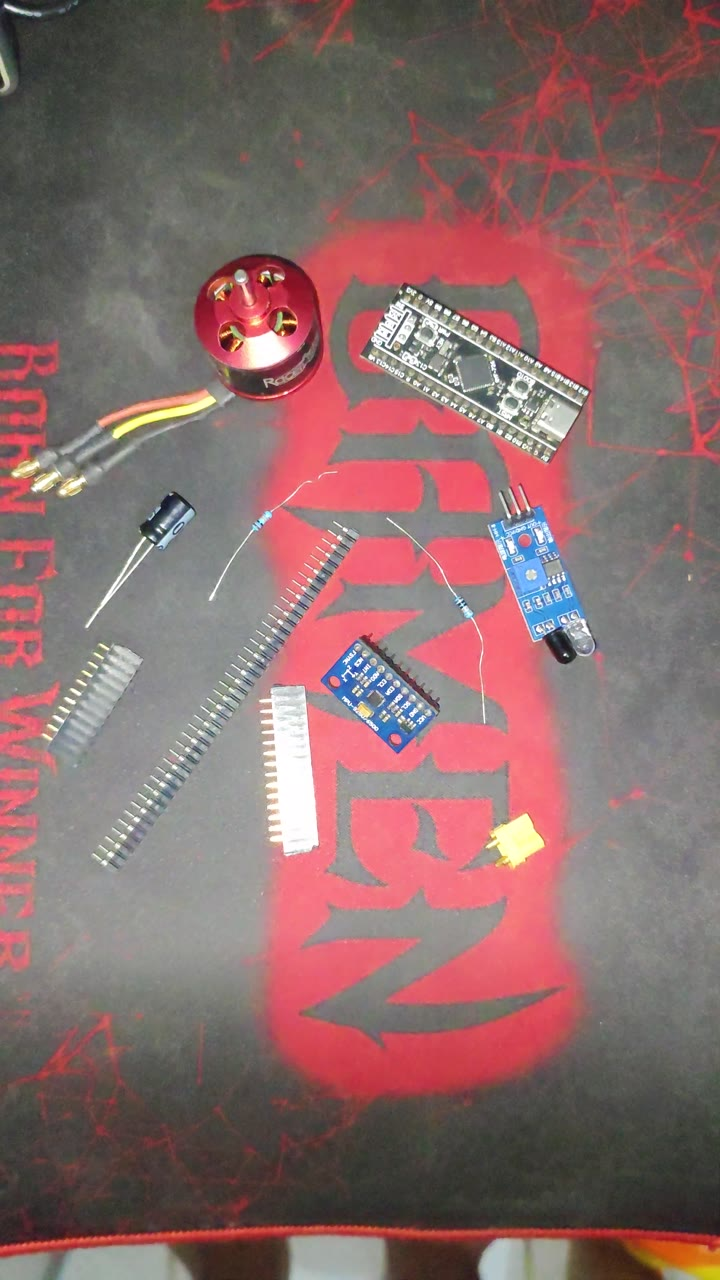bldc_motor: (88, 245, 332, 444)
elco_capacitor: (109, 534, 155, 592)
ir_sensor: (449, 498, 587, 669)
mpu6500: (315, 628, 445, 757)
pin_header: (104, 721, 249, 860), (236, 670, 340, 858), (55, 644, 108, 790)
resistor: (208, 497, 303, 580), (404, 560, 475, 649)
stm32f4: (358, 278, 597, 459)
xt30_female: (481, 809, 547, 867)
